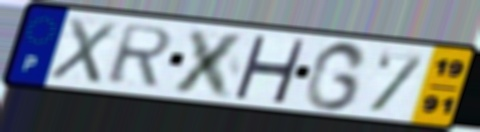7: (368, 47, 429, 115)
G: (301, 39, 370, 113)
H: (231, 33, 309, 105)
R: (104, 22, 176, 88)
X: (168, 26, 252, 100), (45, 15, 120, 87)
